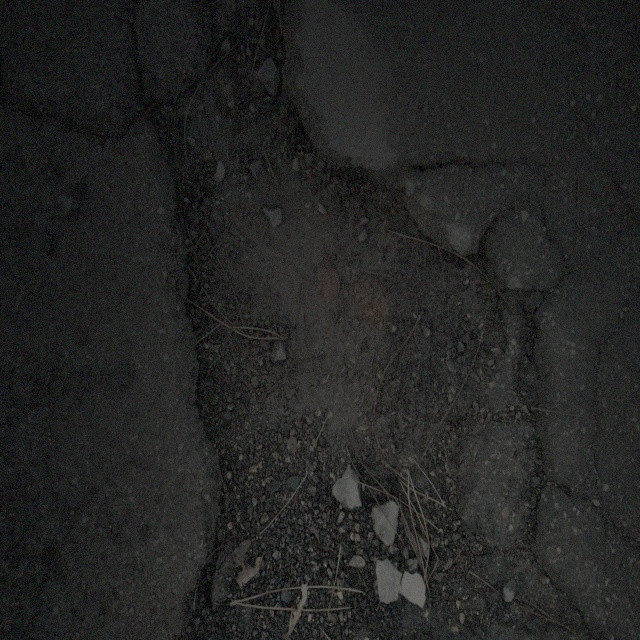pothole: (152, 56, 543, 558)
